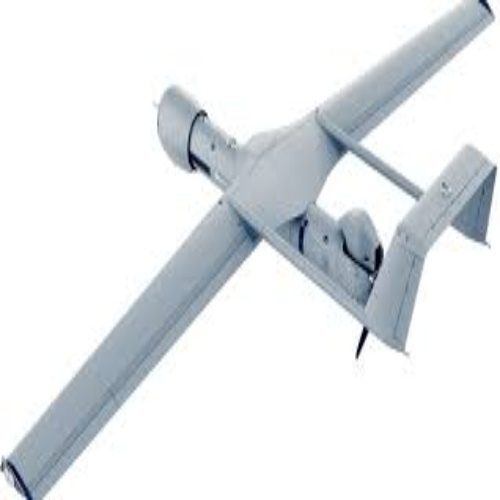uav483: (1, 1, 496, 500)
